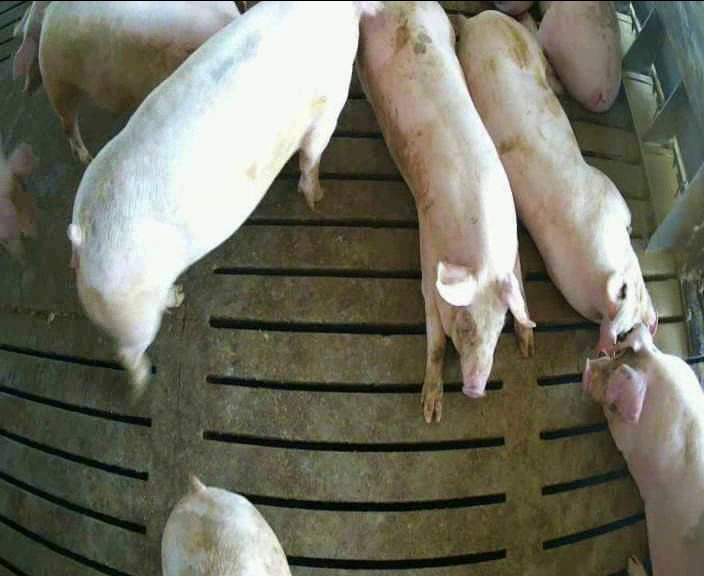pig: (69, 1, 380, 391), (358, 2, 533, 421), (458, 11, 655, 353), (39, 2, 238, 162), (519, 1, 621, 110)
